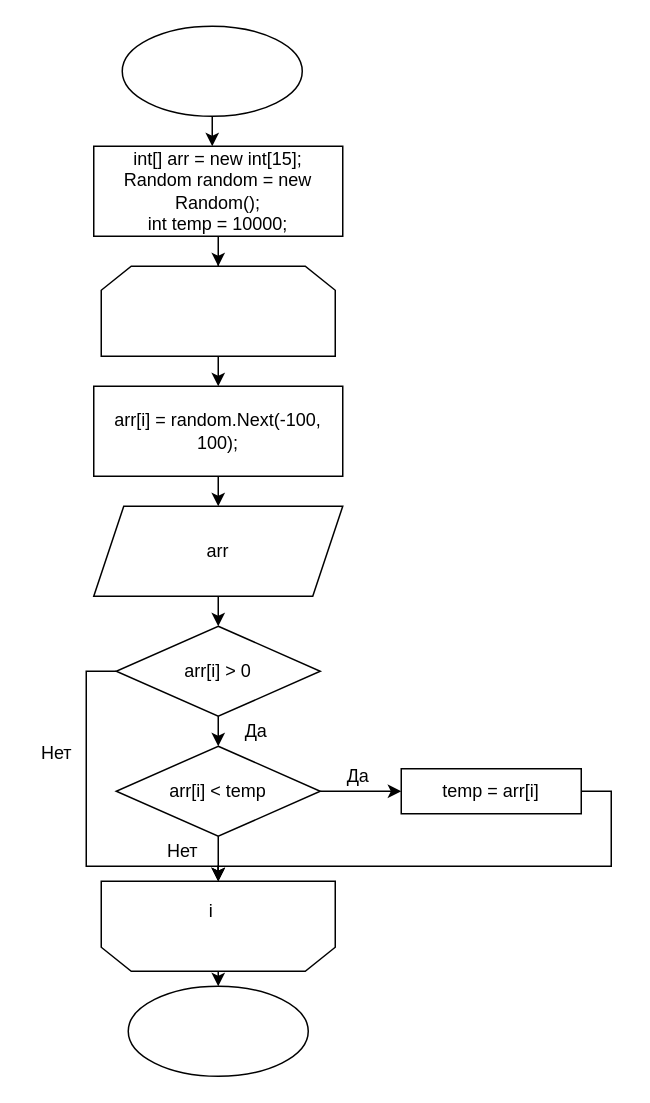
Image size: 650x1103. Some labels were removed from this diagram. The shapes that lost their labels are listed below. From the top down, each one's centre as x and y in pixels, then its label:
pixel 211 70: Начало
pixel 217 310: int i = 0; i <arr.Length; i++
pixel 217 1030: Конец
